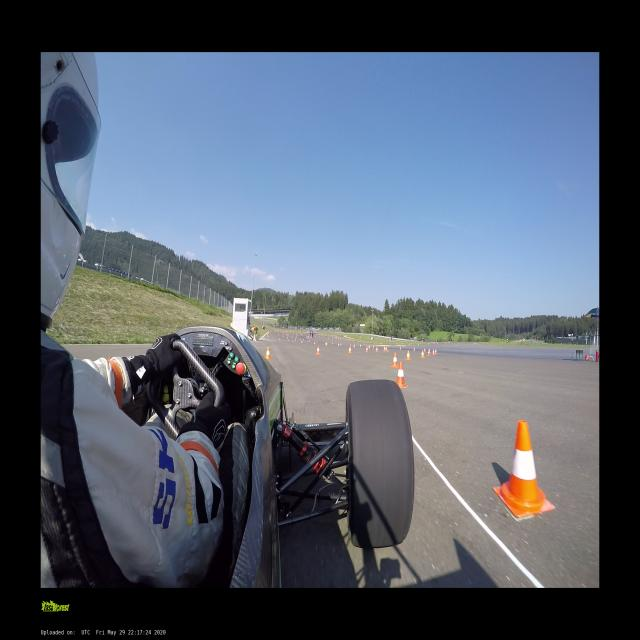orange_cone: (493, 421, 556, 516), (394, 362, 407, 387), (391, 352, 398, 368), (265, 346, 271, 358), (405, 350, 411, 360), (315, 346, 320, 355), (420, 350, 425, 358), (426, 349, 430, 356), (348, 347, 351, 353), (375, 346, 378, 352), (366, 346, 368, 352), (383, 346, 385, 351), (432, 349, 434, 354), (386, 346, 388, 351), (434, 349, 436, 354), (413, 347, 415, 351), (353, 344, 355, 348), (424, 347, 425, 352), (400, 346, 401, 350)
